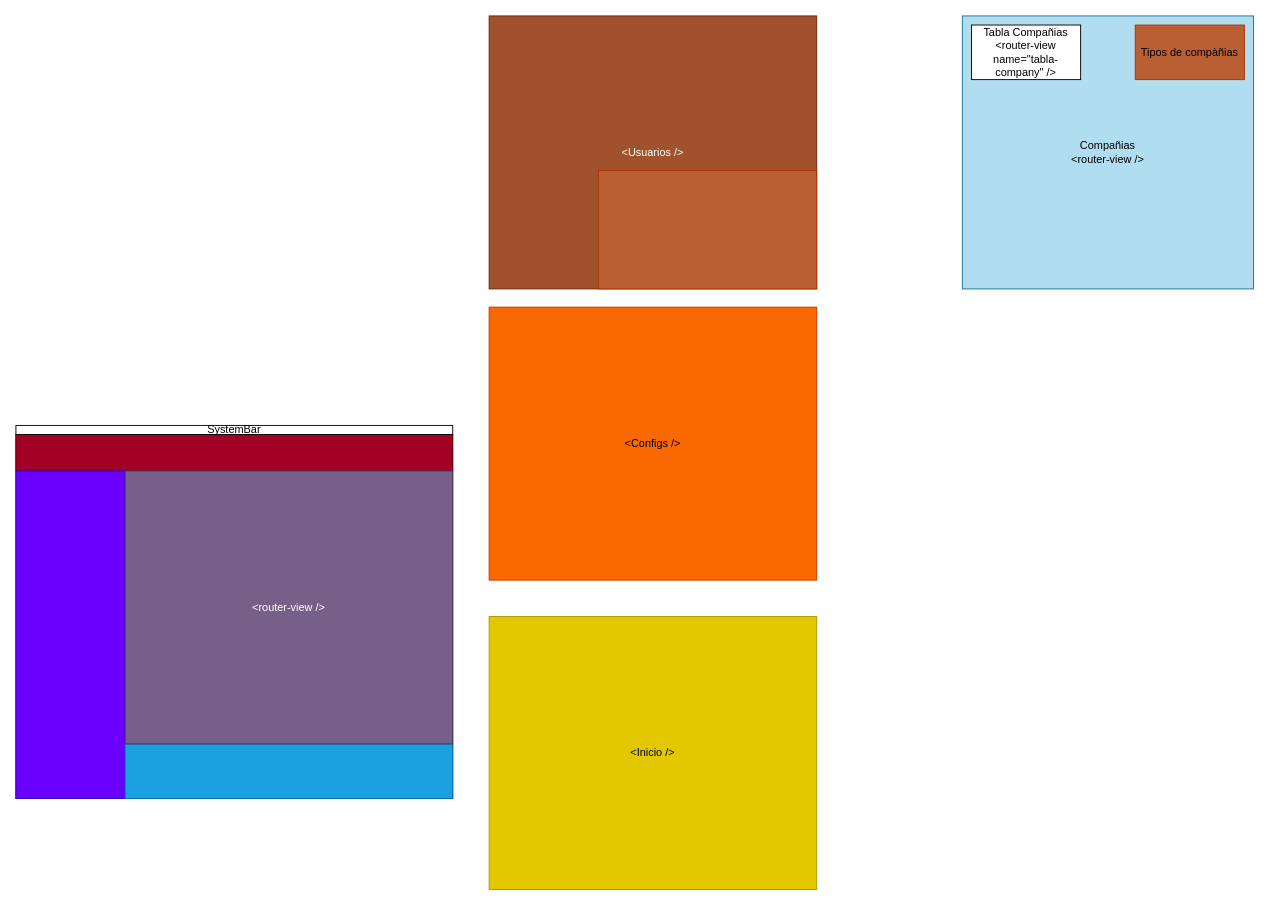
The diagram is 1269 pixels wide and 905 high, and some of its shapes have lost their labels. Here are the shapes that lost their labels. From the top down, the centre of each, then its label:
point (707, 229): <DetalleDeUsuario />
point (234, 452): Navbar
point (70, 634): NavigationDrawer
point (288, 771): Footer
